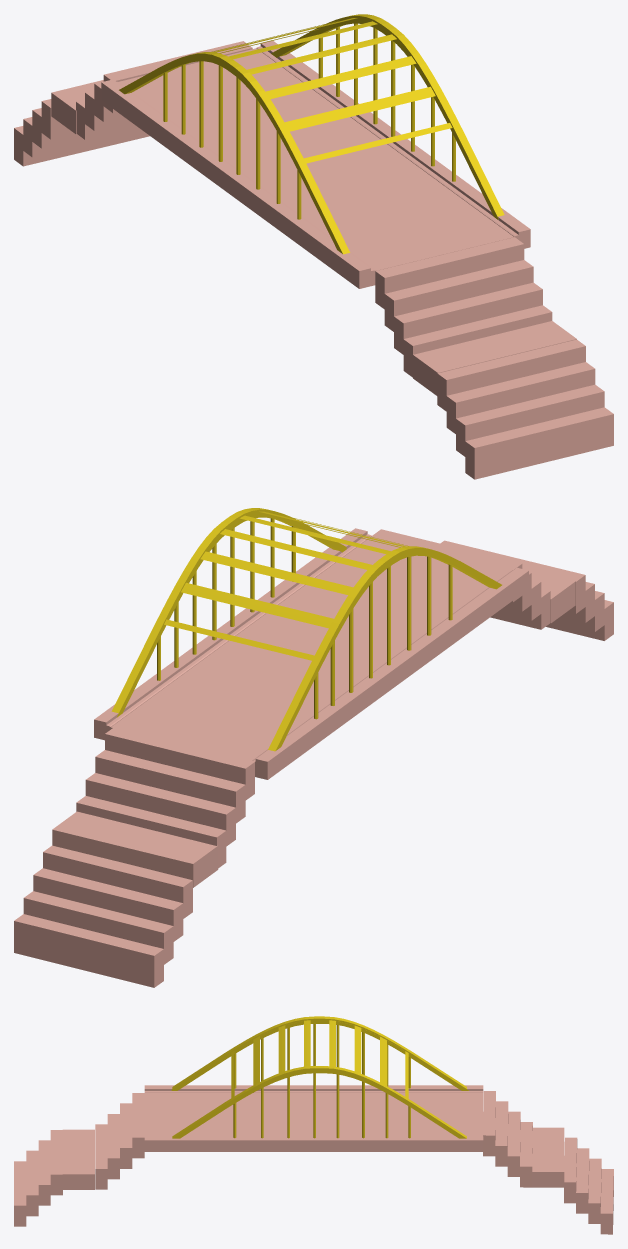
The model's file is bridge2.glb.
3 renders of one model, top to bottom at view 1: azimuth 30°, elevation 25°; view 2: azimuth 150°, elevation 25°; view 3: azimuth 270°, elevation 25°, orthographic. The views are drawn at different scales.
Visible parts, largest first — view 1: Plane, Cylinder.011, Cube.005, Cube.003, Cube.004, Cube.008, Cube.002, Cube.007; view 2: Plane, Cylinder.011, Cube.008, Cube.002, Cube.007, Cube.005, Cube.003, Cube.004; view 3: Plane, Cylinder.011, Cube.008, Cube.002, Cube.003, Cube.005, Cube.004, Cube.007.
Boxes of the visible parts, x1=… form: Plane: x1=101, y1=41, x2=530, y2=288; Cylinder.011: x1=119, y1=14, x2=504, y2=254; Cube.005: x1=437, y1=339, x2=613, y2=479; Cube.003: x1=375, y1=237, x2=552, y2=377; Cube.004: x1=413, y1=321, x2=576, y2=395; Cube.008: x1=14, y1=99, x2=149, y2=166; Cube.002: x1=76, y1=41, x2=252, y2=139; Cube.007: x1=51, y1=80, x2=103, y2=134; Plane: x1=94, y1=528, x2=528, y2=779; Cylinder.011: x1=111, y1=508, x2=501, y2=751; Cube.008: x1=14, y1=845, x2=192, y2=987; Cube.002: x1=76, y1=727, x2=254, y2=867; Cube.007: x1=52, y1=811, x2=218, y2=887; Cube.005: x1=440, y1=540, x2=613, y2=640; Cube.003: x1=372, y1=529, x2=550, y2=629; Cube.004: x1=522, y1=568, x2=575, y2=623; Plane: x1=144, y1=1085, x2=483, y2=1151; Cylinder.011: x1=171, y1=1016, x2=469, y2=1138; Cube.008: x1=564, y1=1137, x2=613, y2=1234; Cube.002: x1=483, y1=1091, x2=532, y2=1187; Cube.003: x1=95, y1=1093, x2=144, y2=1189; Cube.005: x1=14, y1=1130, x2=62, y2=1226; Cube.004: x1=62, y1=1129, x2=94, y2=1189; Cube.007: x1=532, y1=1127, x2=564, y2=1187.
Size of the model in its own units: 15.1 by 21.94 by 69.74.
